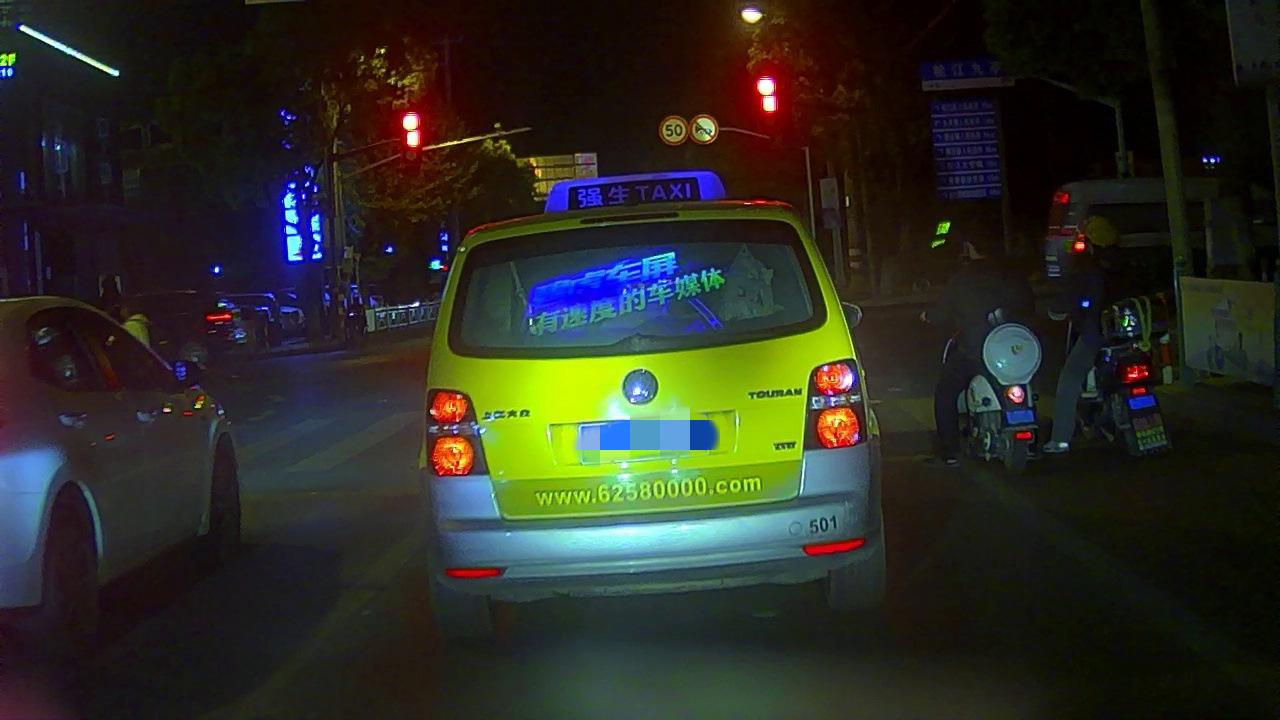traffic_light: (400, 109, 426, 153), (753, 75, 780, 117)
